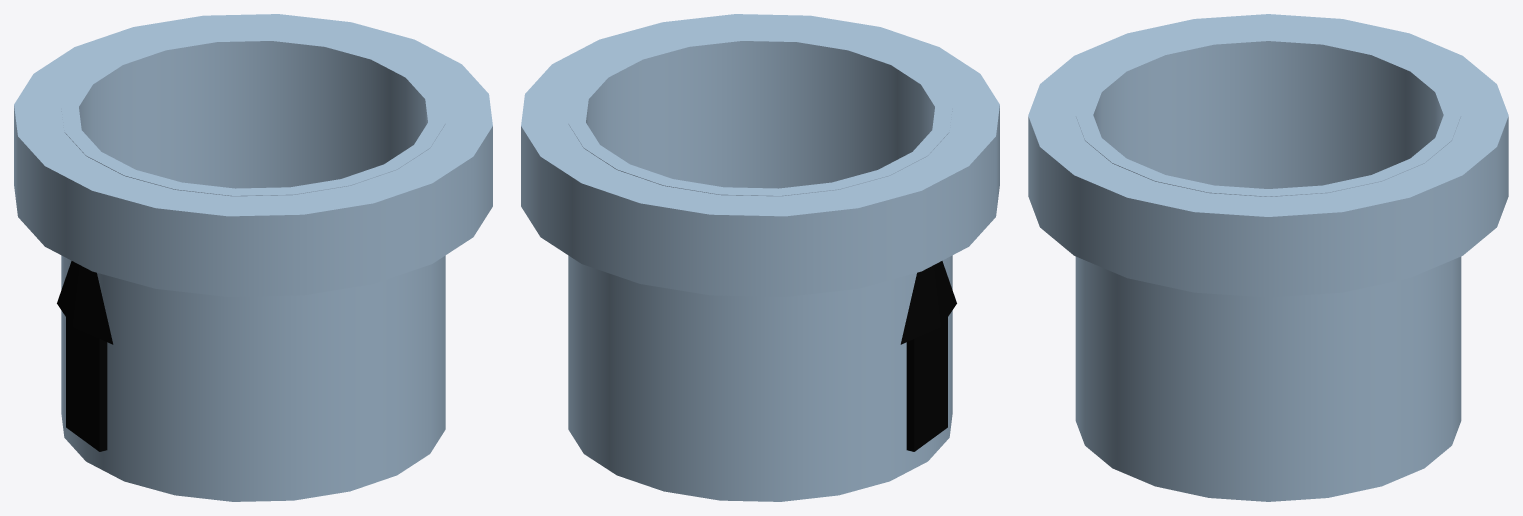
File: TunnelFinish.fbx
3 renders of one model, left to right at view 1: azimuth 30°, elevation 25°; view 2: azimuth 150°, elevation 25°; view 3: azimuth 270°, elevation 25°, orthographic.
Parts seen in each view (by area): view 1: pCylinder1, pCylinder2, pCube1, pCone1; view 2: pCylinder1, pCylinder2, pCube1, pCone1; view 3: pCylinder1, pCylinder2.
Part boxes in pixels (x1,y1,x2,y2): pCylinder1: [61, 33, 445, 501]; pCylinder2: [14, 14, 492, 296]; pCube1: [66, 317, 107, 451]; pCone1: [57, 261, 113, 344]; pCylinder1: [568, 33, 952, 501]; pCylinder2: [521, 14, 999, 296]; pCube1: [906, 317, 947, 451]; pCone1: [900, 261, 956, 344]; pCylinder1: [1075, 33, 1461, 501]; pCylinder2: [1028, 14, 1508, 297].
Size of the model in its own units: 4.81 by 3.37 by 4.81.
